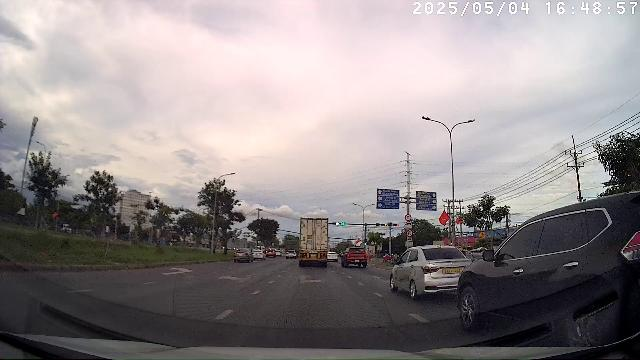123b-cam-re-phai: (406, 229, 413, 237), (405, 214, 412, 221)
